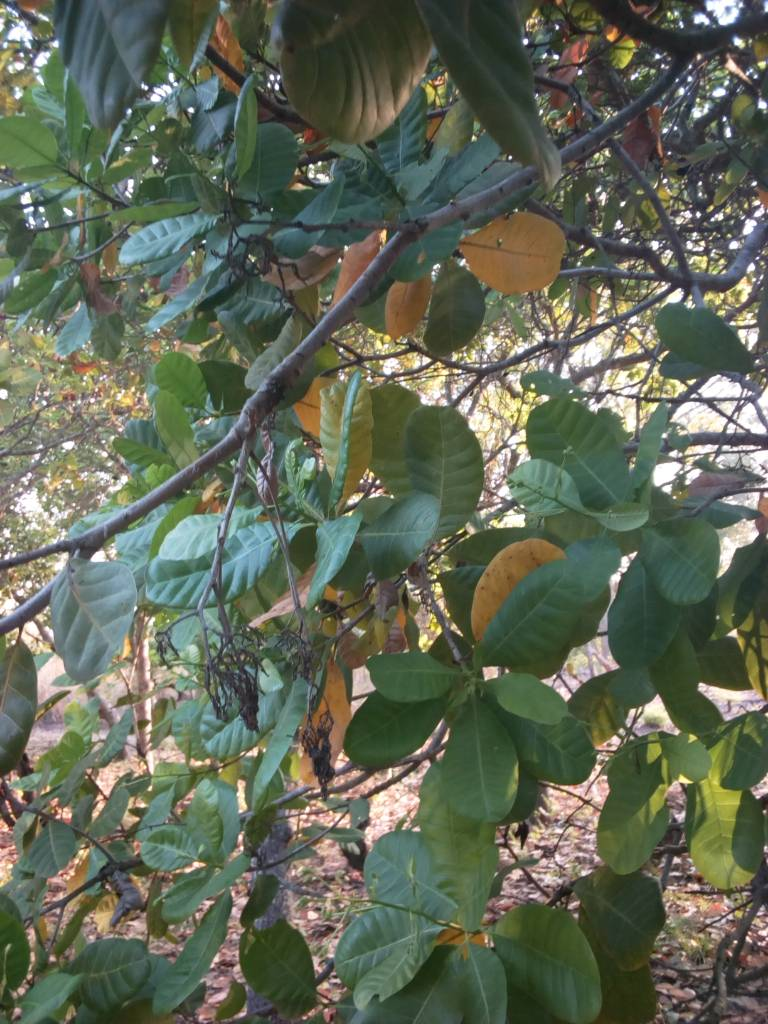Dessèchement des bourgeons: (161, 602, 341, 796)
